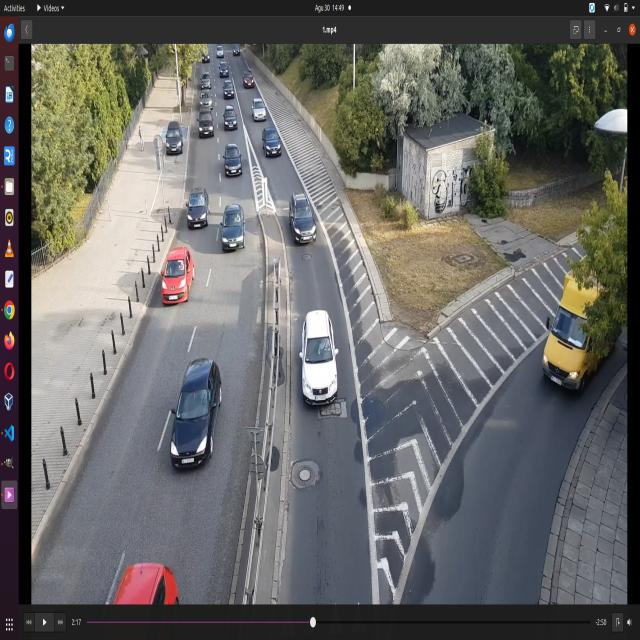person_with_seatbelt: (314, 331, 332, 363)
